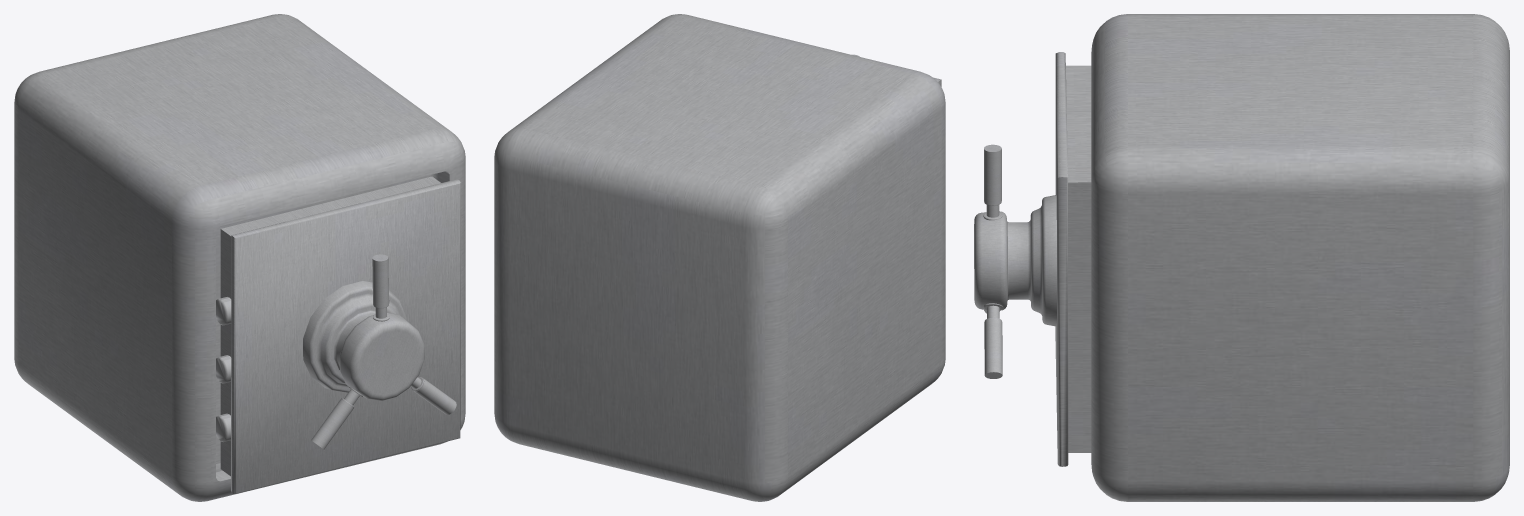
The model's file is Stage_01_Safe_Fix.fbx.
The picture shows the model from 3 angles, left to right: view 1: azimuth 30°, elevation 25°; view 2: azimuth 150°, elevation 25°; view 3: azimuth 270°, elevation 25°; orthographic projection. The views are drawn at different scales.
Parts seen in each view (by area): view 1: Safe, Safe_wing; view 2: Safe; view 3: Safe, Safe_wing.
Boxes of the visible parts, box(x1,y1,x2,y2) form: Safe: box(14, 14, 465, 501); Safe_wing: box(216, 176, 460, 493); Safe: box(494, 14, 945, 501); Safe: box(1091, 14, 1509, 501); Safe_wing: box(974, 52, 1091, 466).
Bounding box in the file's own units: 55.34 × 57.12 × 78.66.
1 material, 1 textured.
